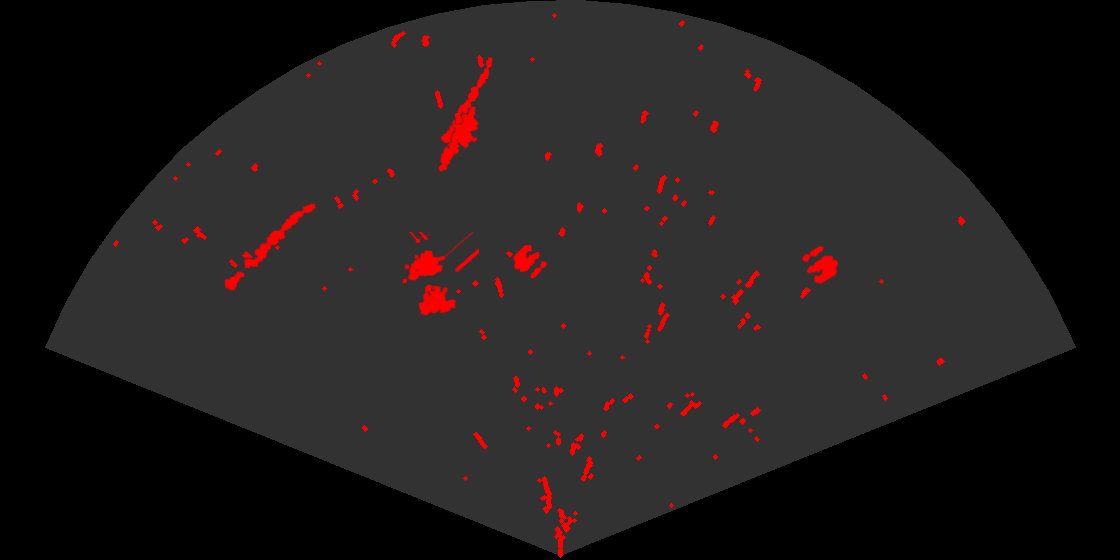ball: (800, 244, 840, 286), (512, 243, 549, 280)
cage: (400, 232, 479, 317)
chain: (223, 202, 317, 293), (439, 56, 494, 145)
frogman: (437, 107, 480, 174)
